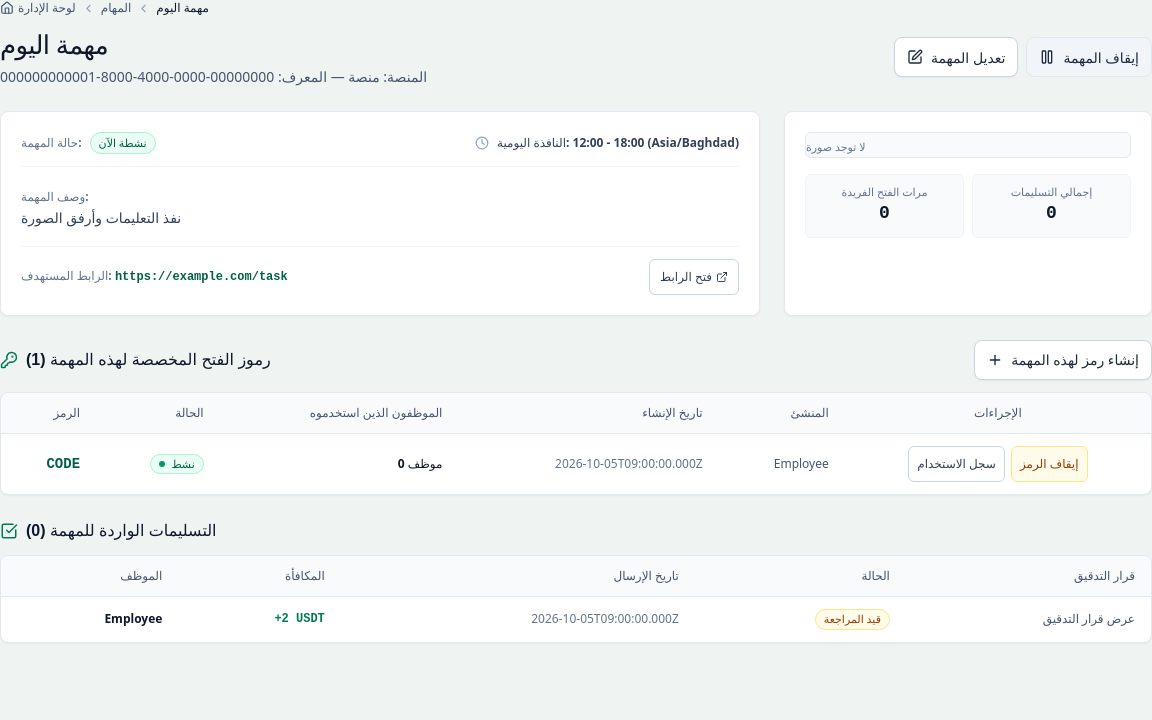
Test: reads current detail and separately bounded related records without local totals
This screenshot has width=1152, height=720.
Expected: the heading "مهمة اليوم" is shown, x1=0 y1=30 x2=108 y2=60
Expected: the link "CODE" is shown, x1=46 y1=456 x2=80 y2=472
Click the button "إيقاف الرمز". click: x=1049, y=464
box: x1=1011 y1=446 x2=1088 y2=482
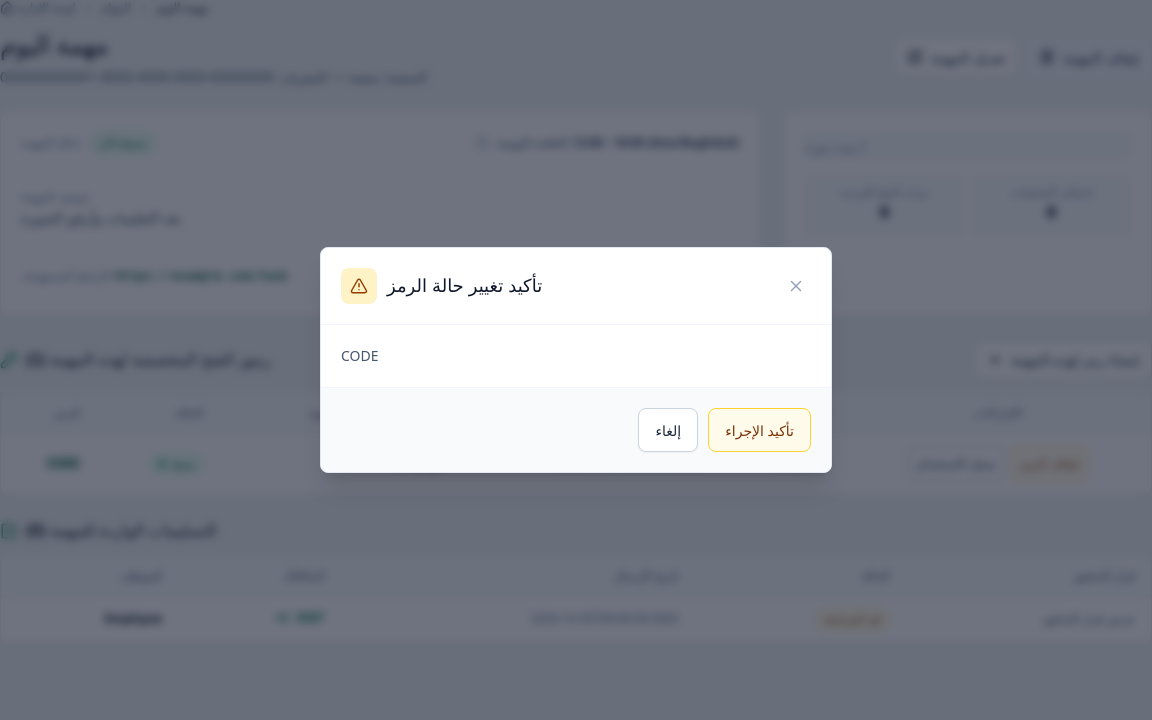
Expected: the dialog is shown
